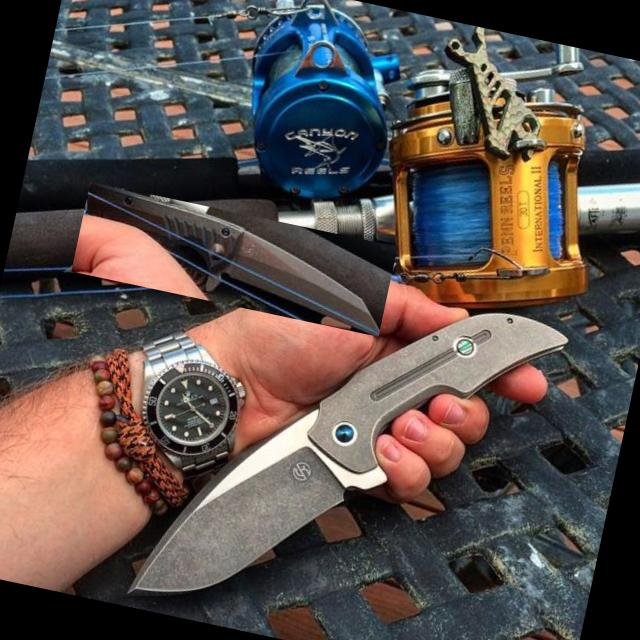Knife: (120, 312, 567, 600), (87, 182, 379, 335)
